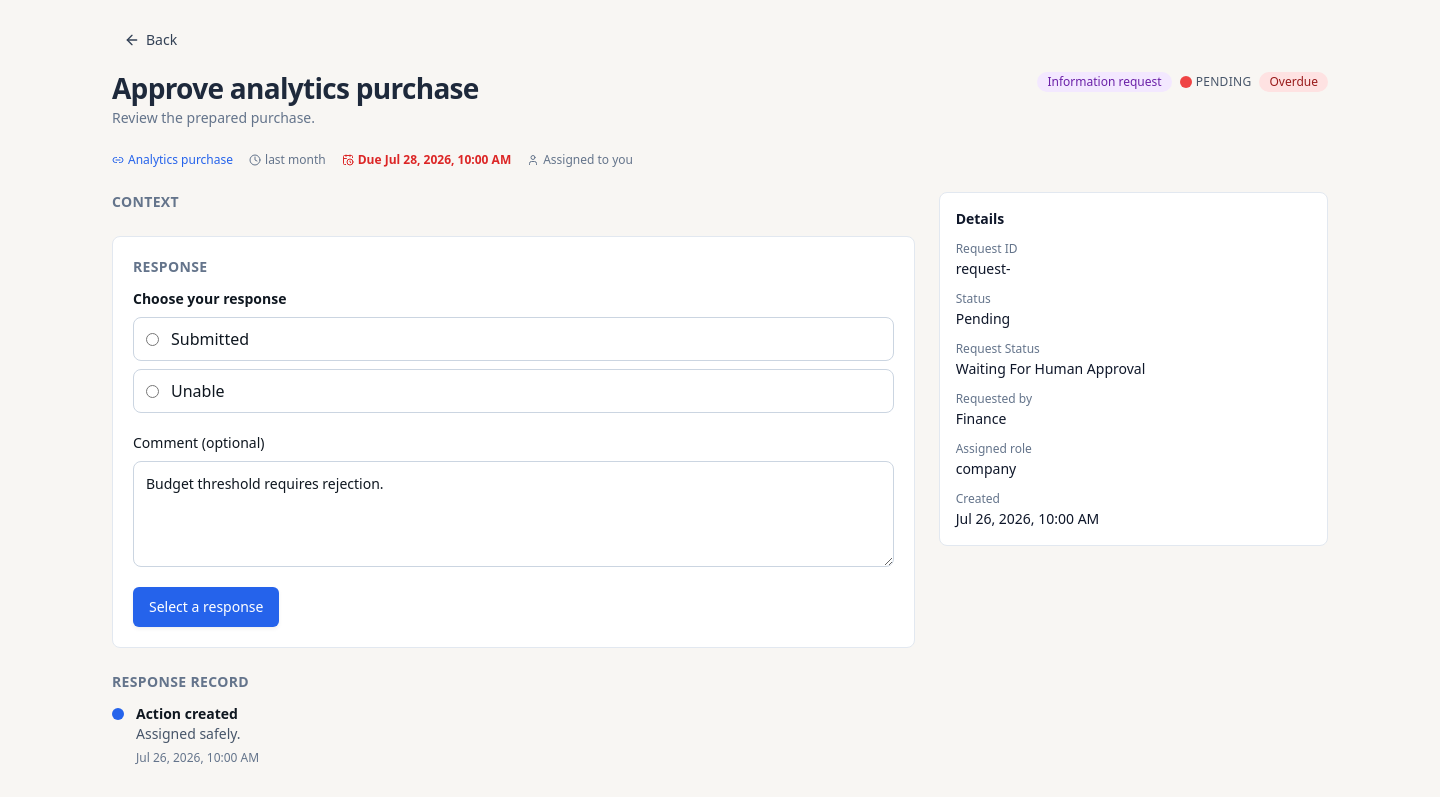
Test: HumanAction experience › builds information fields only from the approved safe schema
Click the radio button labelled "submitted" at (152, 339), box [146,332,159,346]
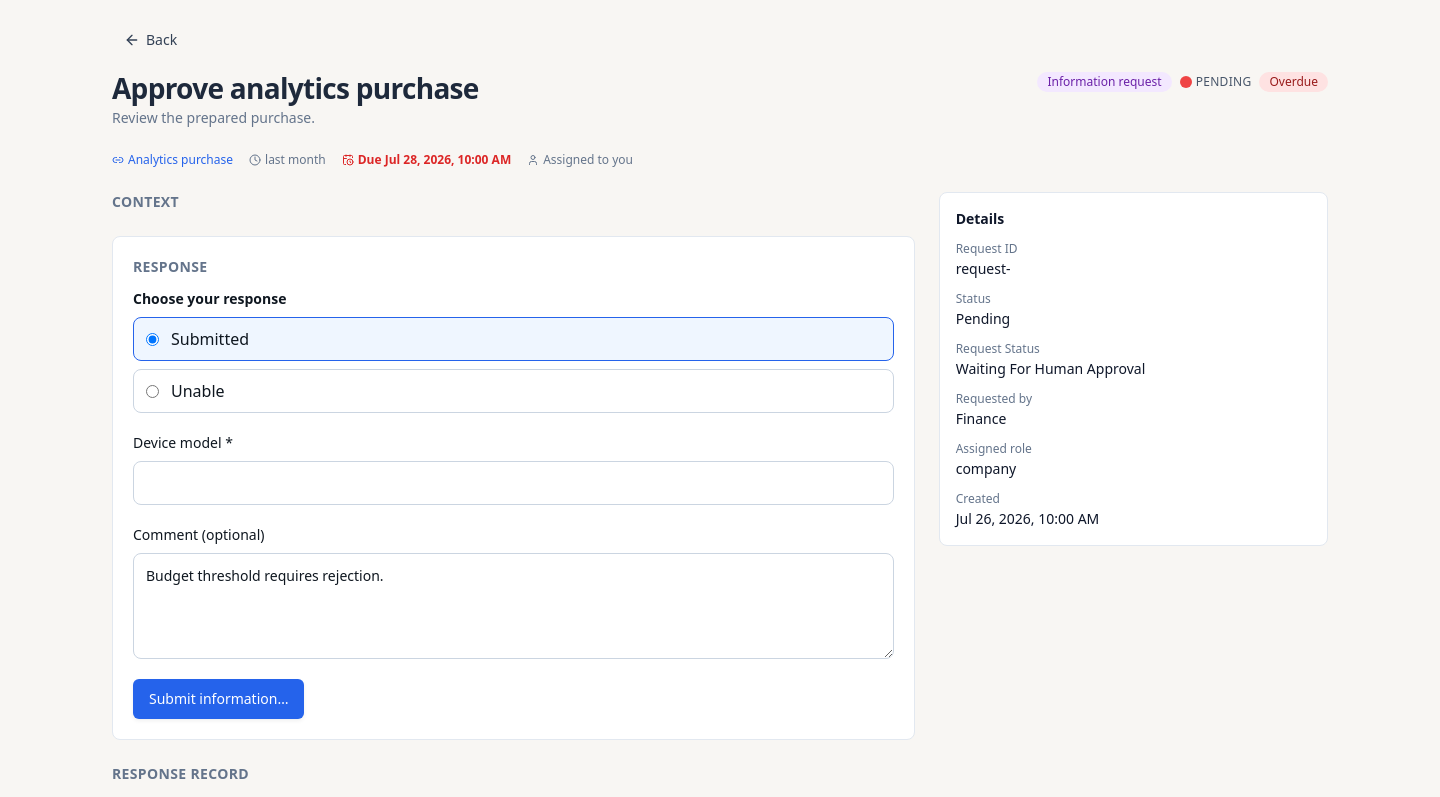
Expected: the field labelled "Device model *" is shown, [133,461,894,505]
